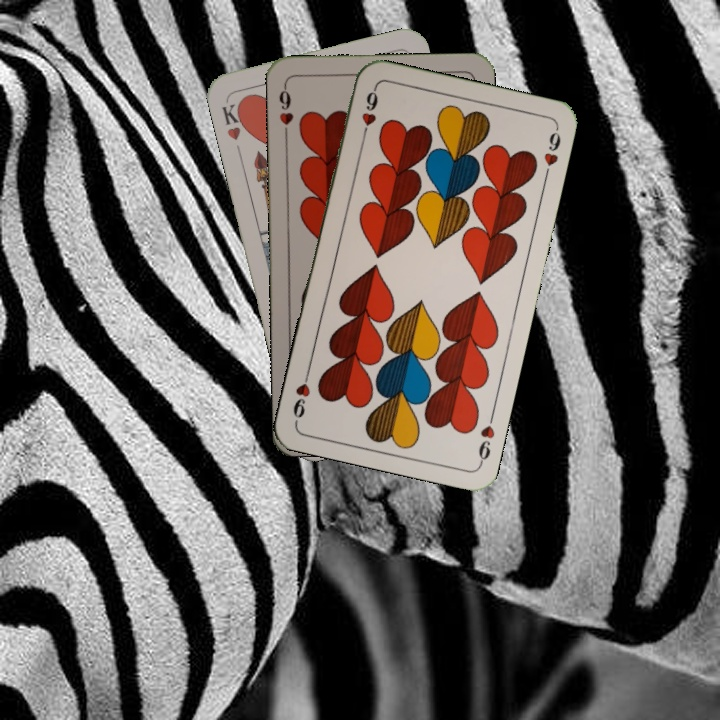H9: (474, 408, 498, 467), (358, 84, 381, 142), (274, 81, 296, 140)
HK: (218, 96, 249, 142)
